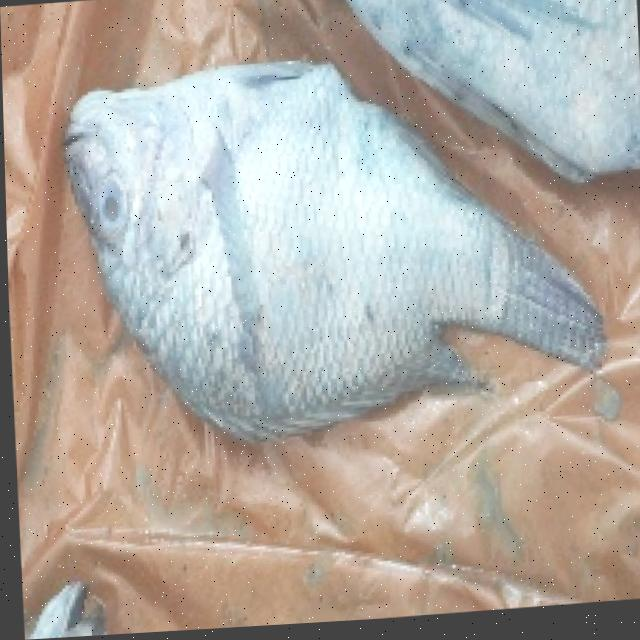Non-Fresh: (53, 30, 476, 452)
